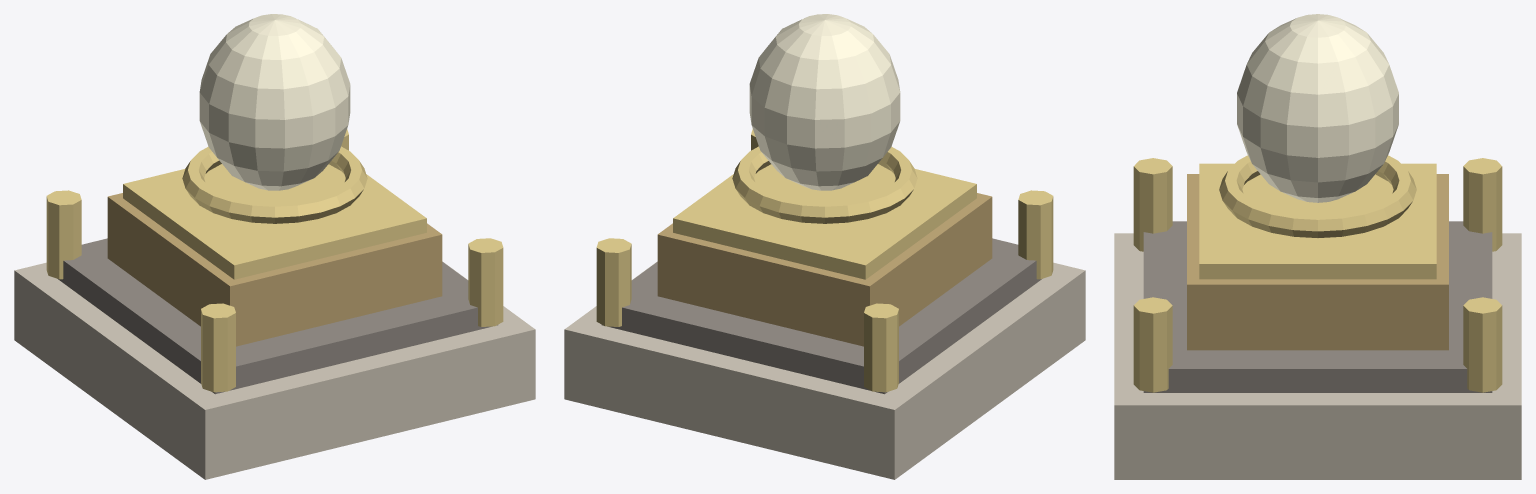
Rendered from altar.glb.
The picture shows the model from 3 angles, left to right: view 1: azimuth 30°, elevation 25°; view 2: azimuth 150°, elevation 25°; view 3: azimuth 270°, elevation 25°; orthographic projection. The views are drawn at different scales.
Parts seen in each view (by area): view 1: altar; view 2: altar; view 3: altar.
Part boxes in pixels (x1,y1,x2,y2): altar: (14,14,535,479); altar: (564,14,1085,479); altar: (1114,14,1521,479).
Size of the model in its own units: 0.84 by 0.85 by 0.84.
